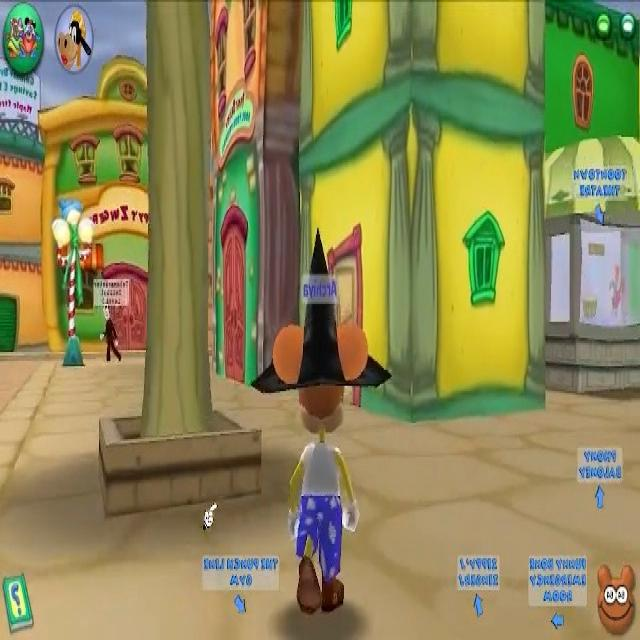telemarketer: (95, 278, 128, 366)
